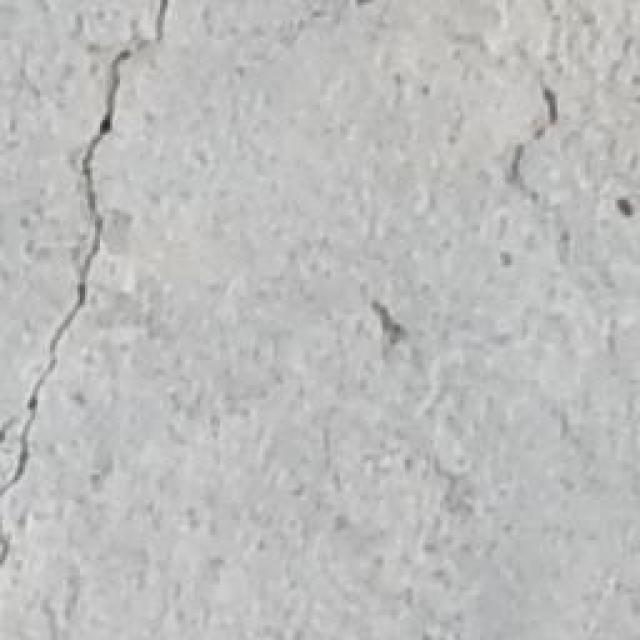concrete-crack: (0, 0, 178, 501)
